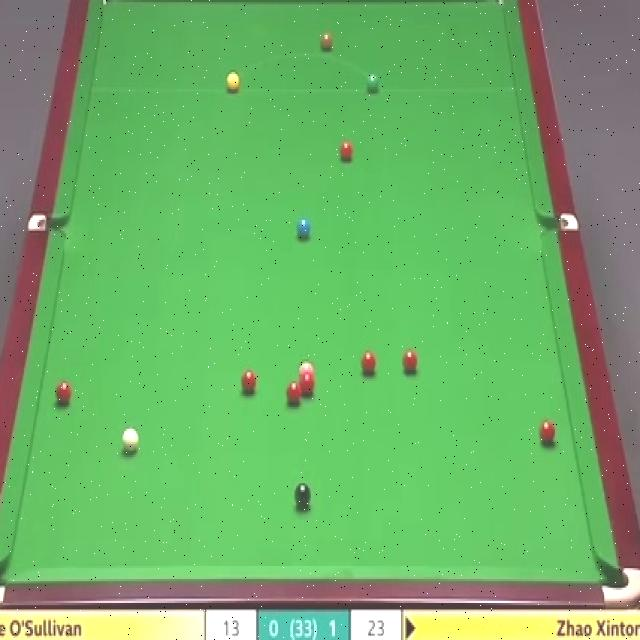black-ball: (294, 481, 312, 509)
blue-ball: (295, 216, 310, 240)
brown-ball: (320, 31, 333, 53)
green-ball: (365, 71, 379, 94)
pink-ball: (298, 361, 315, 377)
red-ball: (55, 378, 73, 407), (359, 350, 376, 376), (337, 138, 355, 162), (539, 422, 557, 446), (240, 370, 257, 394), (298, 374, 316, 396), (402, 349, 417, 374), (286, 383, 302, 404)
white-ball: (120, 426, 140, 459)
yellow-ball: (226, 70, 240, 92)
